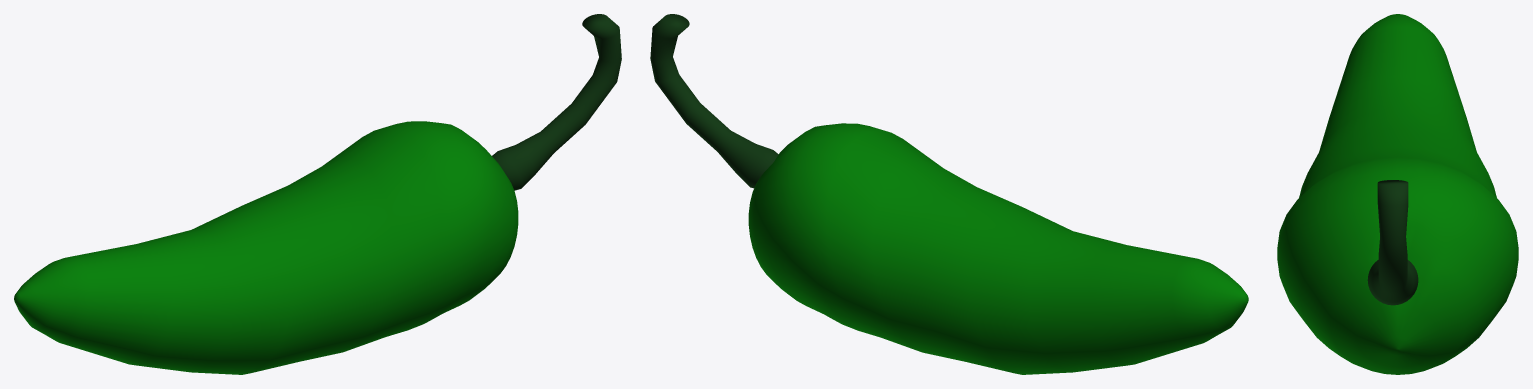
The model's file is biber tam.fbx.
3 views of the same model, side by side, from view 1: azimuth 30°, elevation 25°; view 2: azimuth 150°, elevation 25°; view 3: azimuth 270°, elevation 25° (orthographic). The views are drawn at different scales.
Parts seen in each view (by area): view 1: Cylinder.005; view 2: Cylinder.005; view 3: Cylinder.005.
Boxes of the visible parts, <box> form: Cylinder.005: <box>14,14,621,374</box>; Cylinder.005: <box>650,14,1248,374</box>; Cylinder.005: <box>1277,14,1518,374</box>.
Size of the model in its own units: 971 by 403 by 296.
